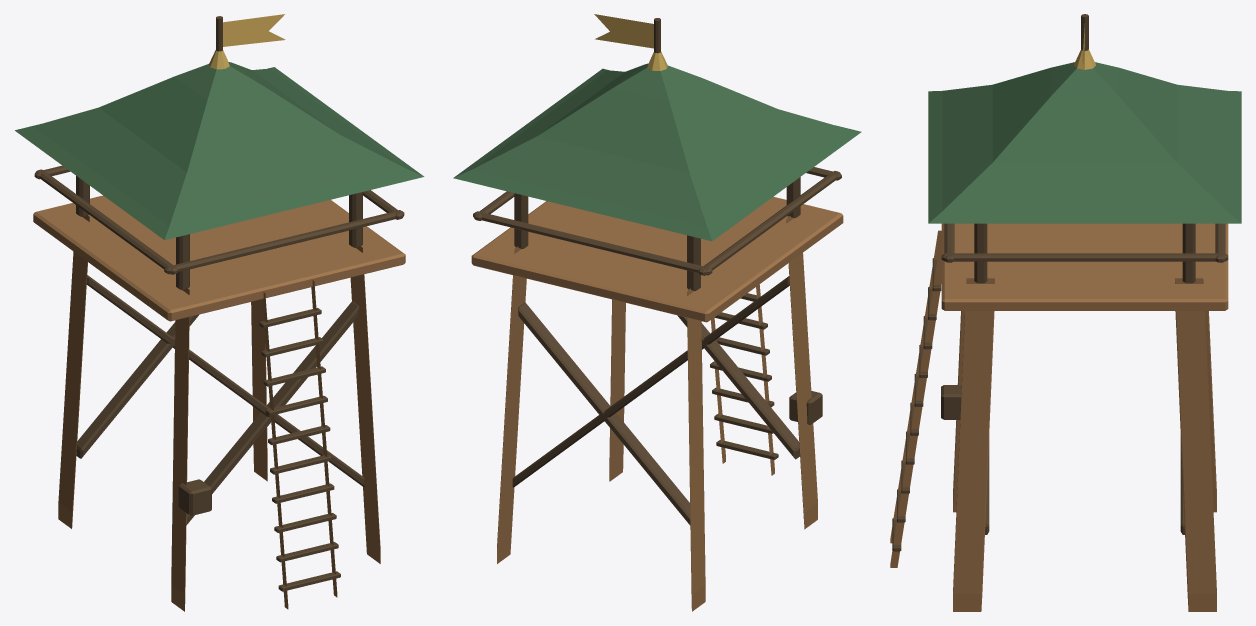
The model's file is watchtower.glb.
3 renders of one model, left to right at view 1: azimuth 30°, elevation 25°; view 2: azimuth 150°, elevation 25°; view 3: azimuth 270°, elevation 25°, orthographic. The views are drawn at different scales.
Parts seen in each view (by area): view 1: Pigment_476d4d, Pigment_9b7148, Pigment_584631, Pigment_d7b15c; view 2: Pigment_476d4d, Pigment_9b7148, Pigment_584631, Pigment_d7b15c; view 3: Pigment_476d4d, Pigment_9b7148, Pigment_584631.
Boxes of the visible parts, x1,y1,x2,y2 form: Pigment_476d4d: (15, 62, 424, 240); Pigment_9b7148: (33, 195, 405, 611); Pigment_584631: (34, 16, 404, 591); Pigment_d7b15c: (223, 14, 285, 46); Pigment_476d4d: (453, 63, 861, 241); Pigment_9b7148: (471, 196, 843, 611); Pigment_584631: (473, 18, 841, 525); Pigment_d7b15c: (594, 14, 653, 48); Pigment_476d4d: (928, 62, 1241, 223); Pigment_9b7148: (890, 223, 1228, 611); Pigment_584631: (892, 14, 1228, 551).
Bounding box in the file's own units: 3.61 × 6.95 × 4.04.
